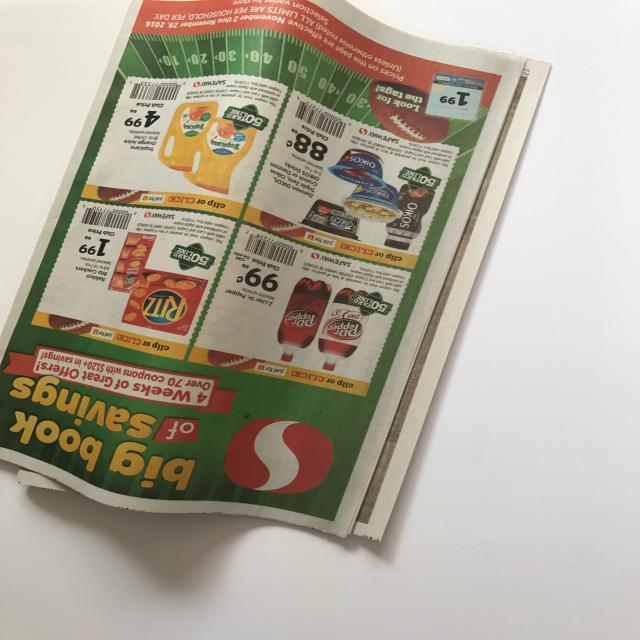paper: (2, 1, 550, 542)
